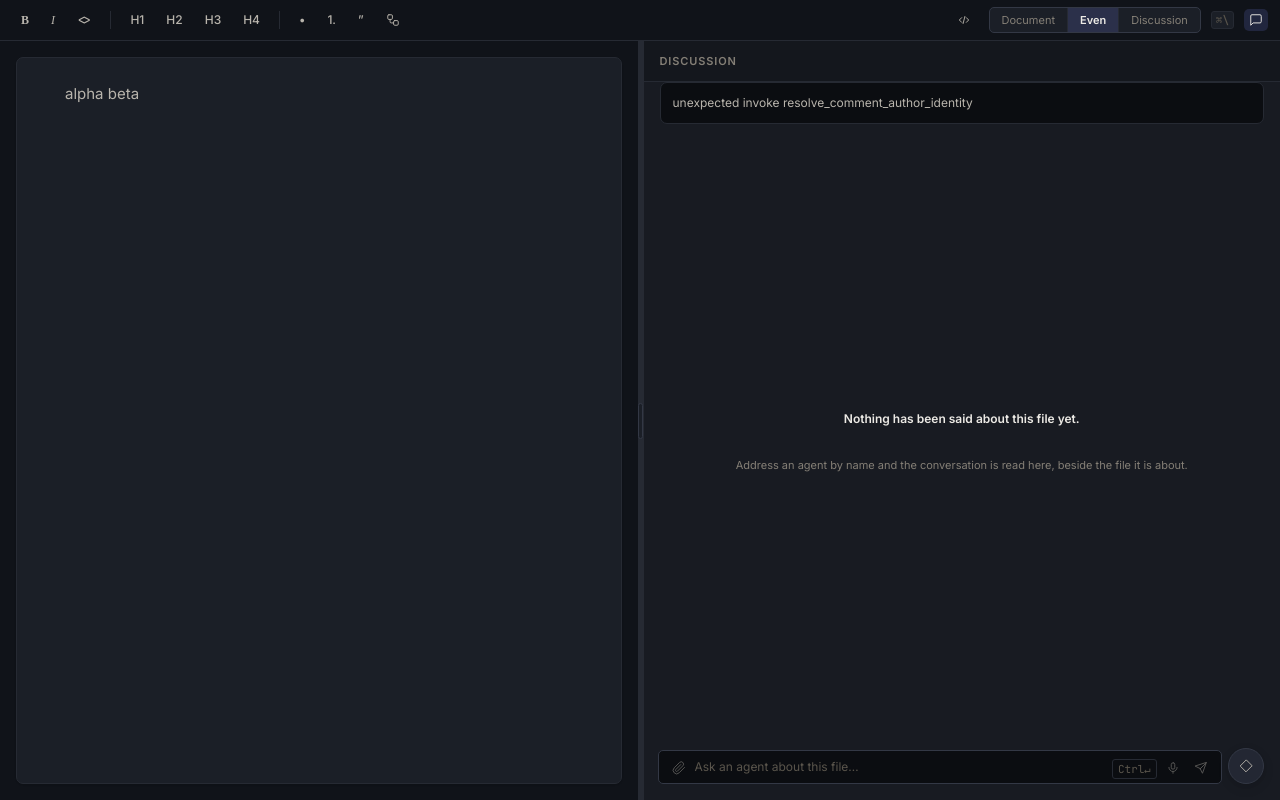
it: closing the panel (EFR-FR-CELO) › closes outright on Escape rather than collapsing to Find
Click the button named "Edit as Markdown source" at (964, 20), box top-left (948, 6), bottom-right (978, 34)
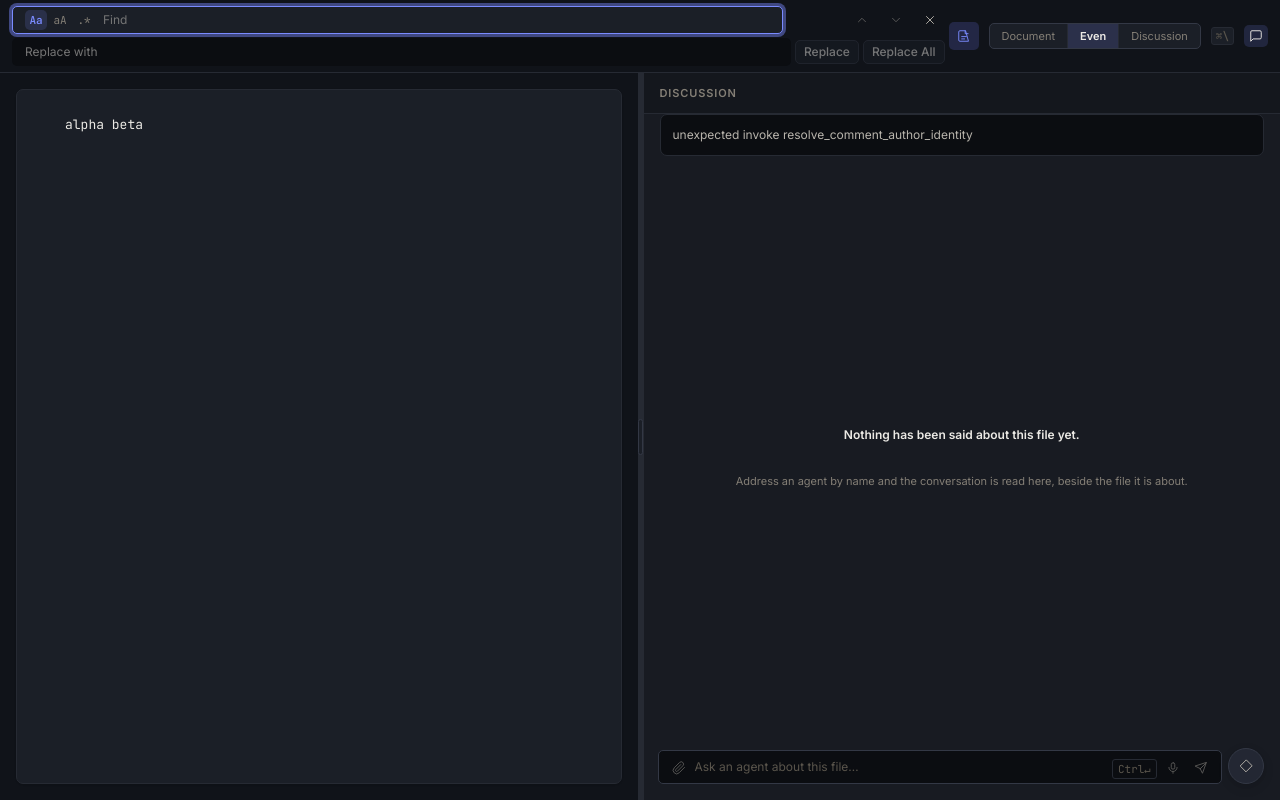
Type "beta" into the field labelled "Find" at (436, 20), box top-left (103, 11), bottom-right (770, 29)
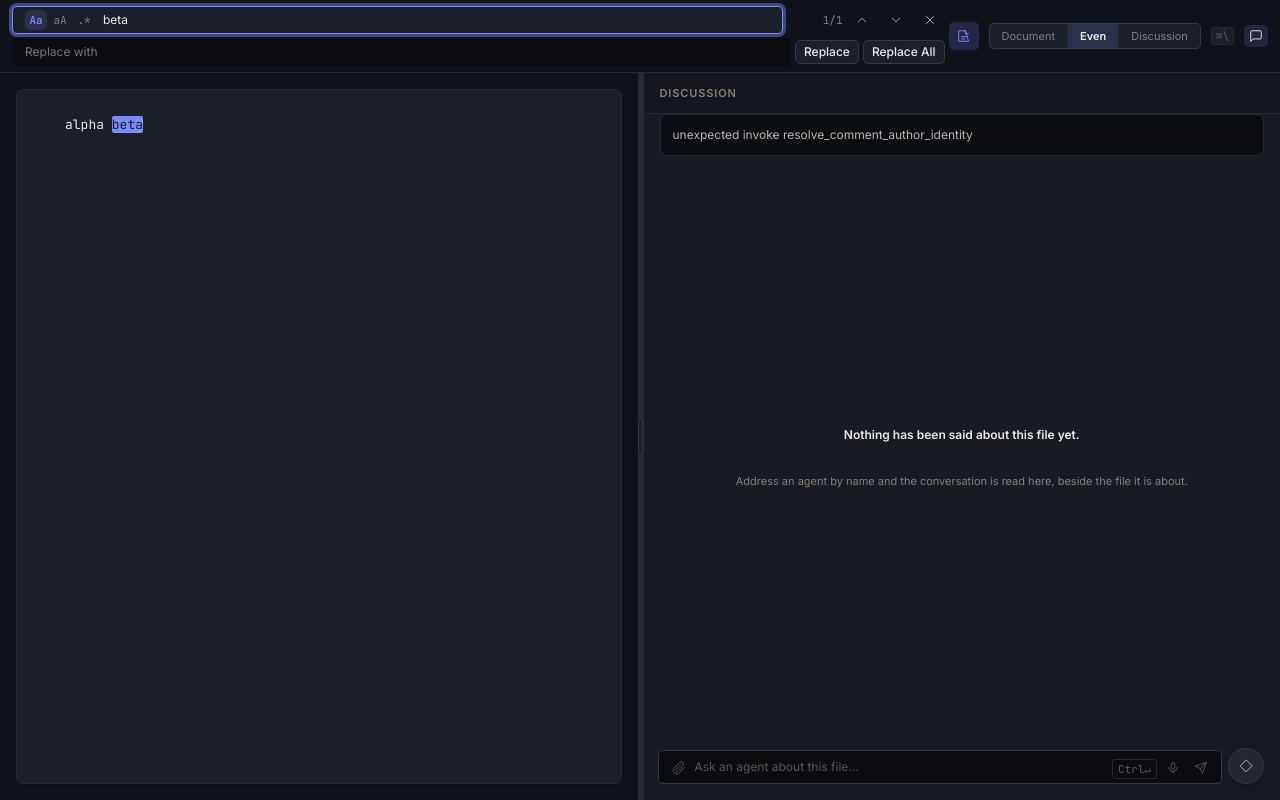
Press Escape in the field labelled "Replace with", box top-left (25, 43), bottom-right (778, 61)
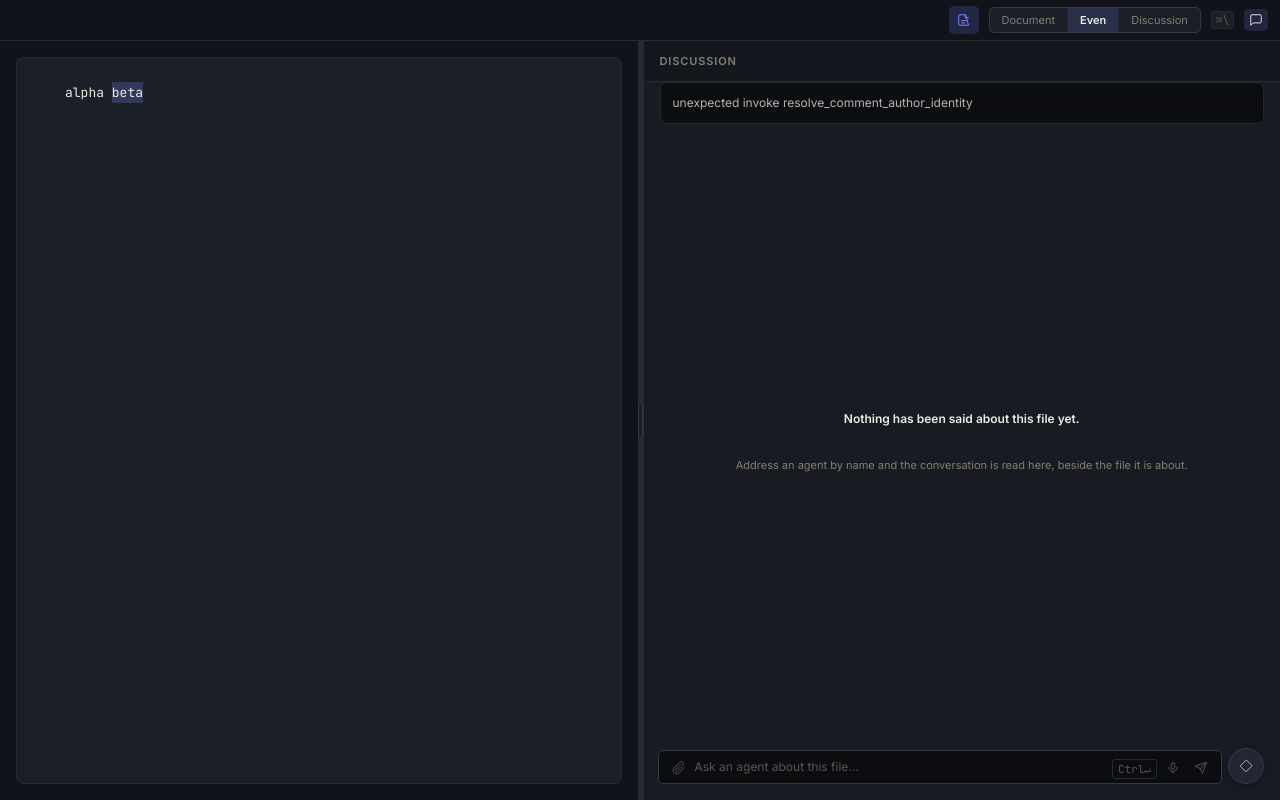
Check: the element with test id "find-panel" is gone
